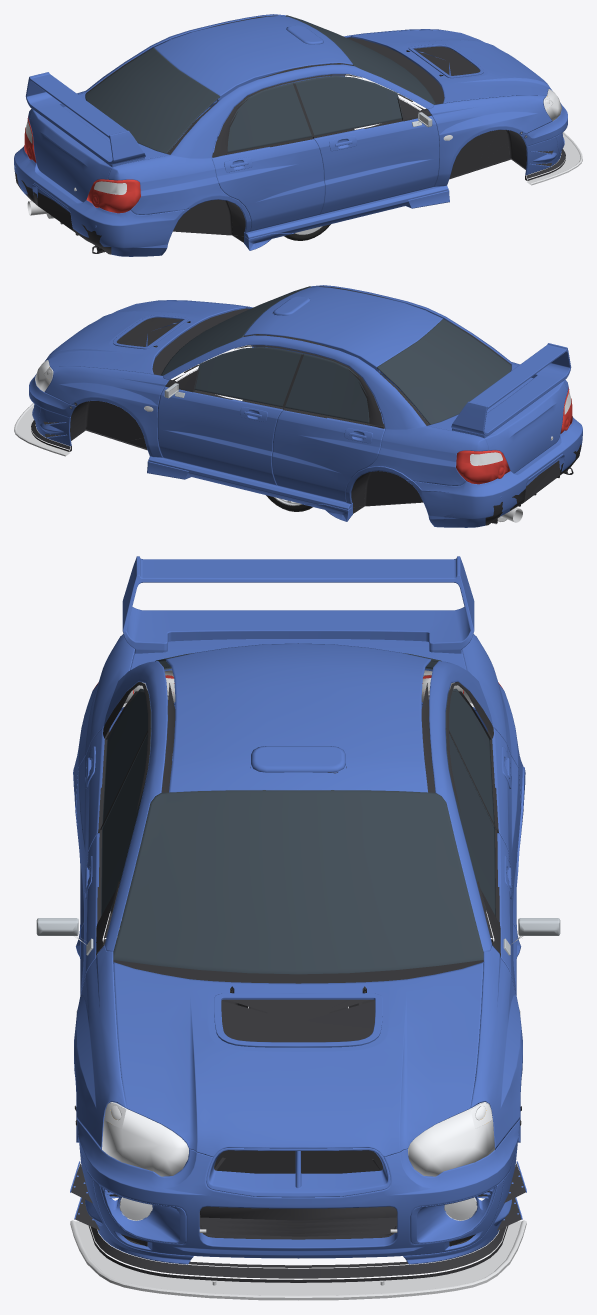
The model's file is impreza.glb.
The picture shows the model from 3 angles, top to bottom: view 1: azimuth 30°, elevation 25°; view 2: azimuth 150°, elevation 25°; view 3: azimuth 270°, elevation 25°; orthographic projection. The views are drawn at different scales.
Visible parts, largest first — view 1: carroceria; view 2: carroceria; view 3: carroceria.
Boxes of the visible parts, <box> form: carroceria: <box>14,14,582,256</box>; carroceria: <box>14,285,582,527</box>; carroceria: <box>36,556,560,1300</box>.
Bounding box in the file's own units: 4.42 × 1.72 × 2.
